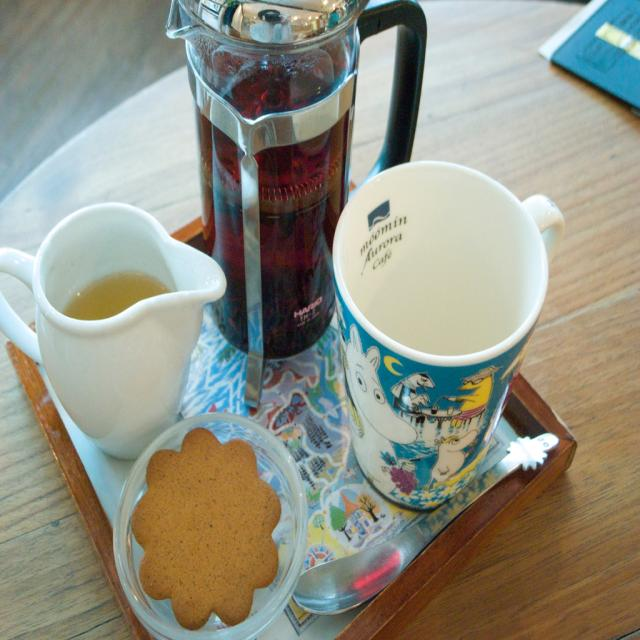Tea: (17, 195, 228, 454), (60, 271, 167, 320)
